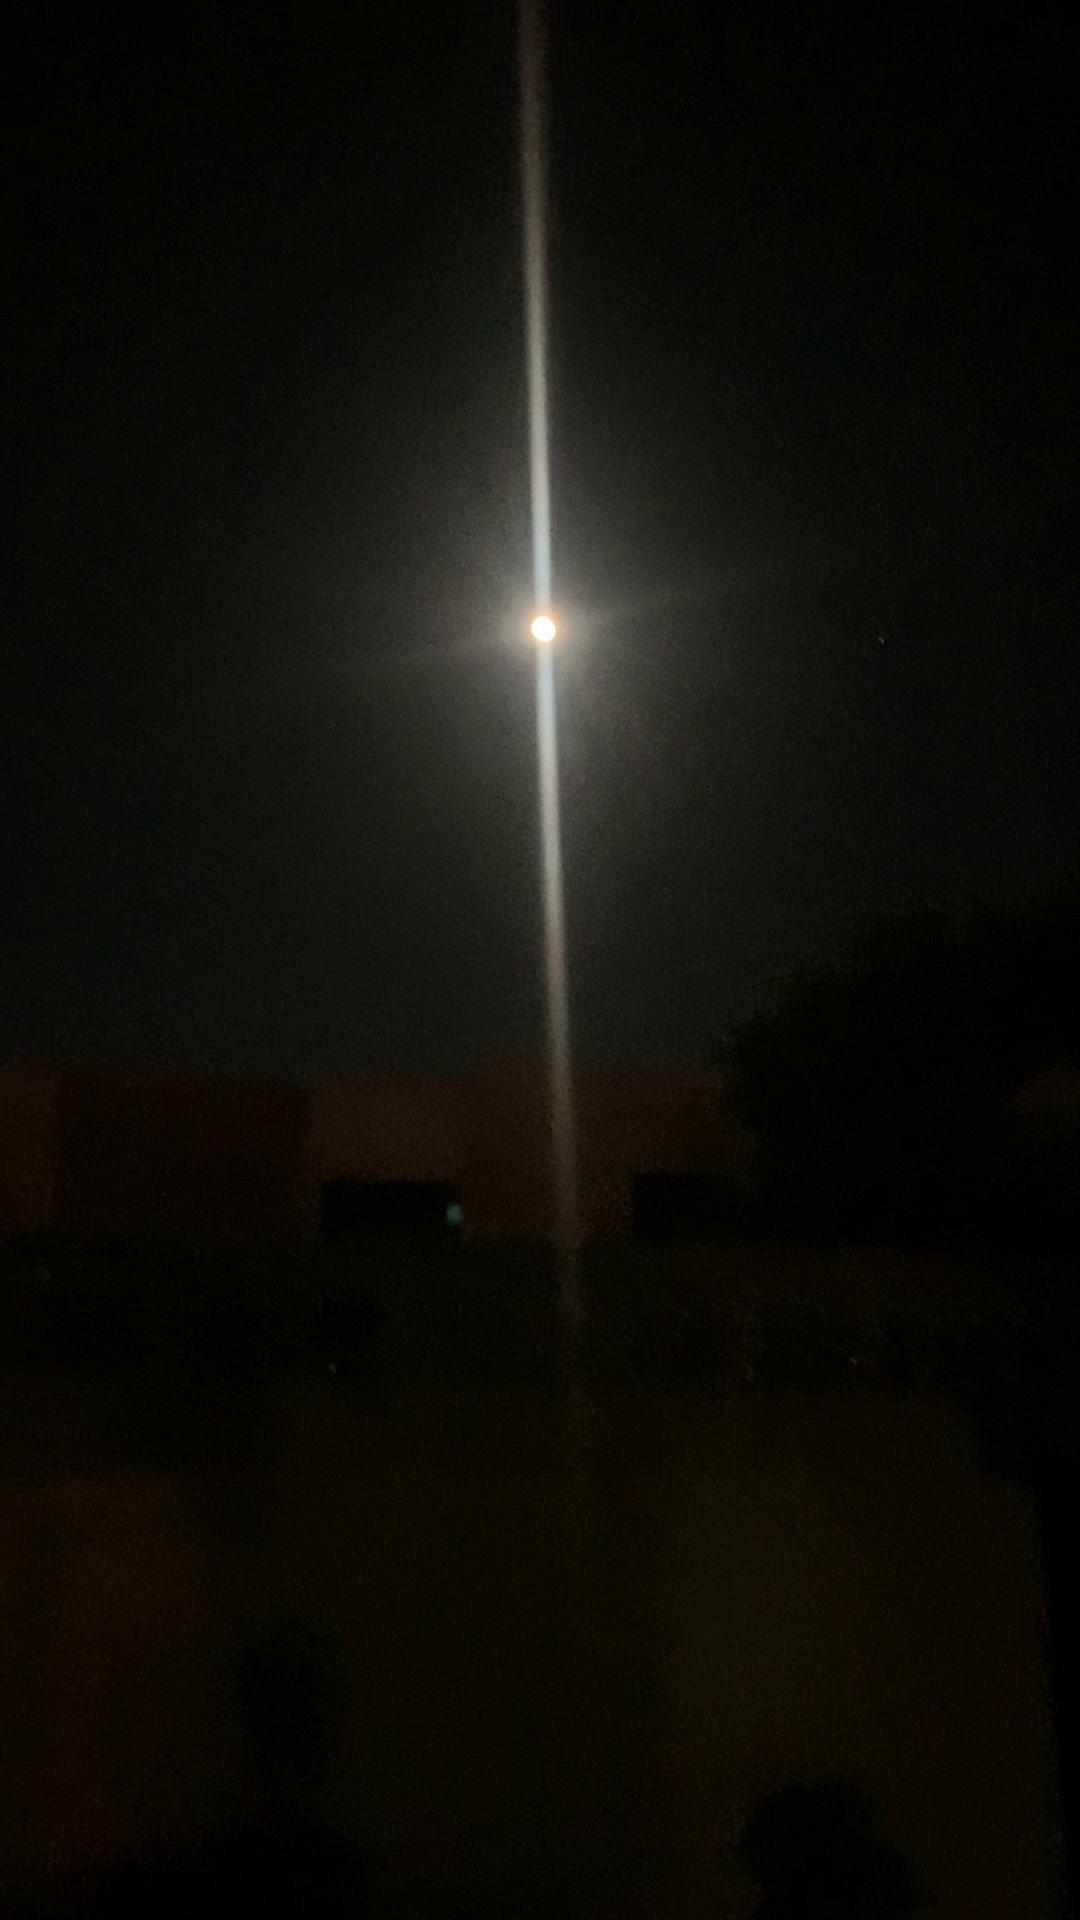moon: (516, 597, 591, 676)
